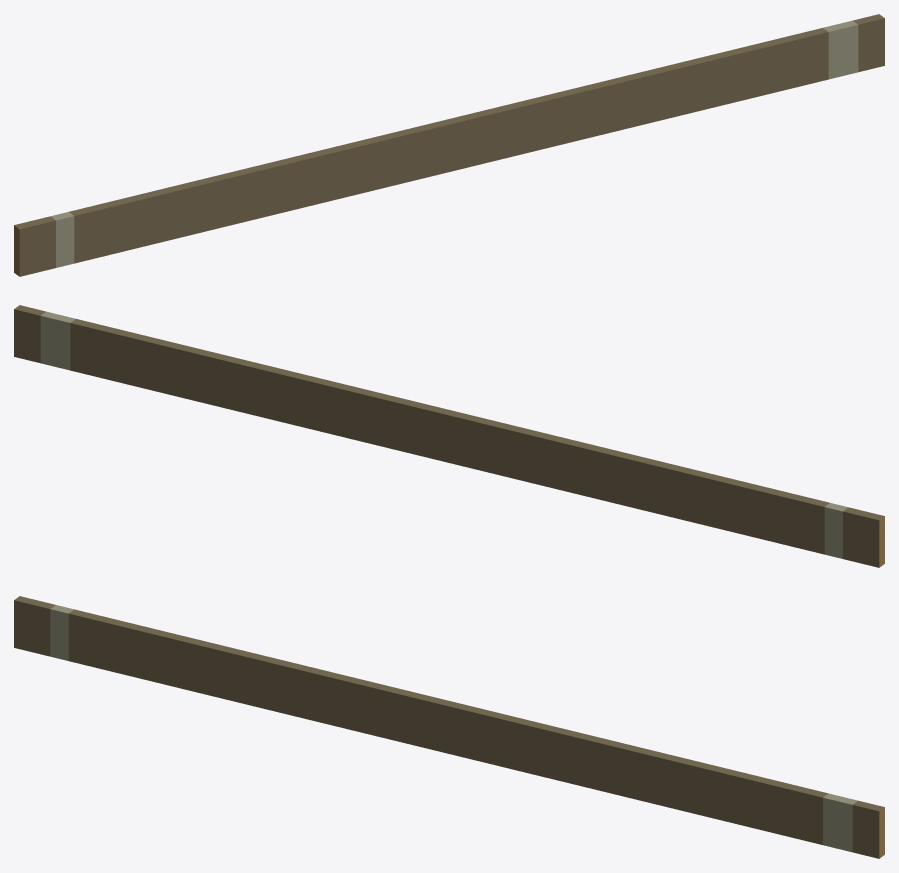
File: Wood_4B.fbx
3 renders of one model, top to bottom at view 1: azimuth 30°, elevation 25°; view 2: azimuth 150°, elevation 25°; view 3: azimuth 330°, elevation 25°, orthographic.
Parts seen in each view (by area): view 1: pCube541; view 2: pCube541; view 3: pCube541.
Boxes of the visible parts, x1,y1,x2,y2 form: pCube541: [14, 14, 884, 276]; pCube541: [14, 305, 884, 567]; pCube541: [14, 596, 884, 858].
Size of the model in its own units: 260 by 13.65 by 3.
